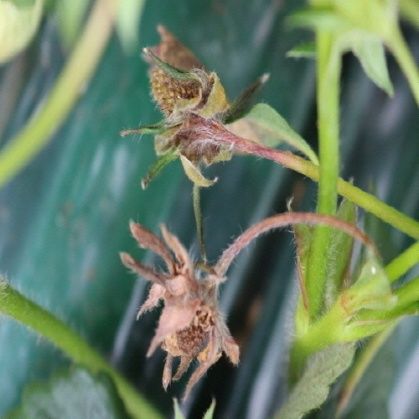Gray_Mold: (131, 165, 298, 395), (141, 16, 300, 226)
